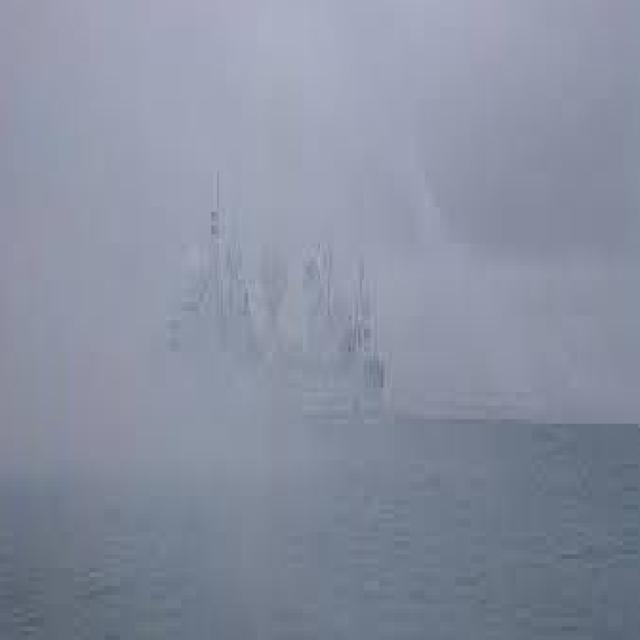navalvessels: (141, 212, 399, 444)
